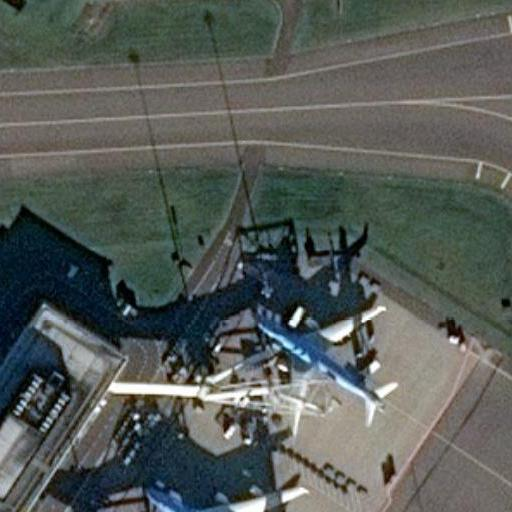Aircraft: (249, 297, 398, 431), (138, 478, 322, 512)
